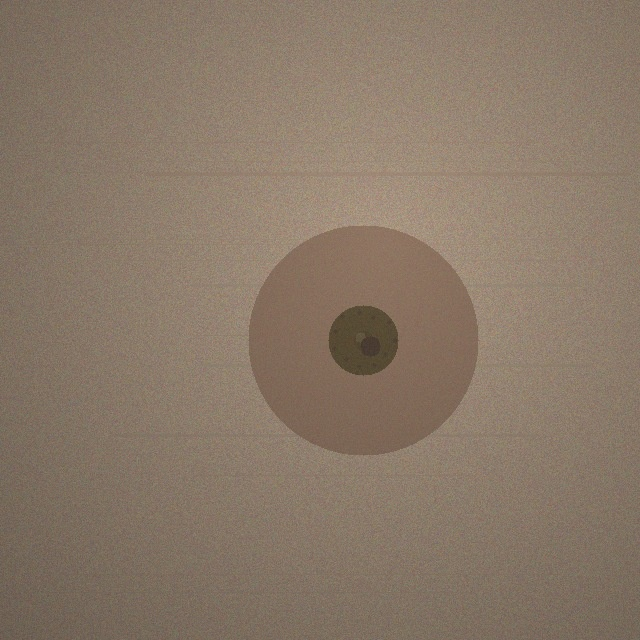cold_weld: (248, 225, 478, 455)
